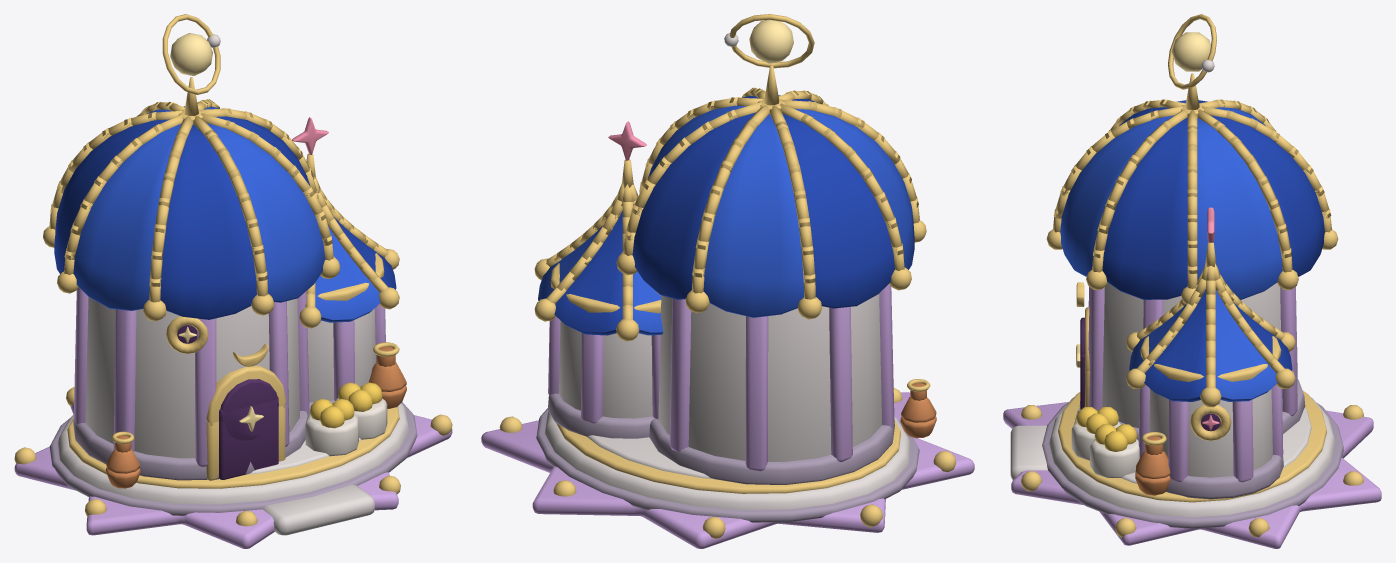
Rendered from Granary.glb.
The picture shows the model from 3 angles, left to right: view 1: azimuth 30°, elevation 25°; view 2: azimuth 150°, elevation 25°; view 3: azimuth 270°, elevation 25°; orthographic projection. The views are drawn at different scales.
Visible parts, largest first — view 1: Granary; view 2: Granary; view 3: Granary.
Part boxes in pixels (bbox=[...]): Granary: bbox=[14, 14, 452, 548]; Granary: bbox=[481, 14, 974, 548]; Granary: bbox=[1003, 14, 1381, 548].
Bounding box in the file's own units: 2.74 × 3.06 × 2.48.
